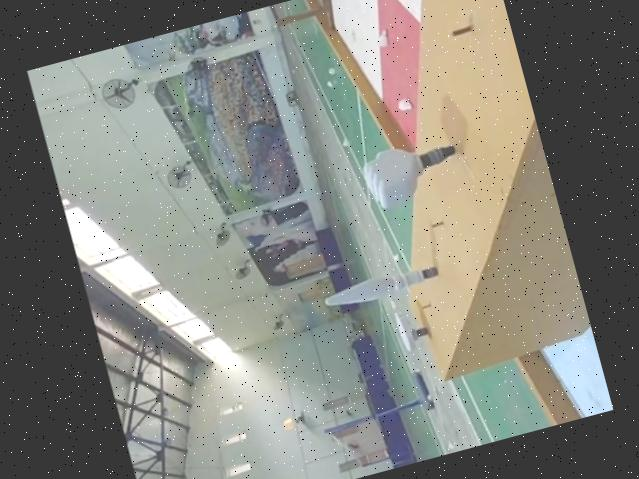Fist: (358, 130, 464, 214)
Hand: (390, 308, 432, 355)
Sph: (317, 256, 441, 314)
